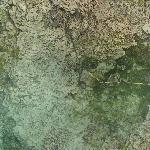dead: (3, 1, 144, 146)
